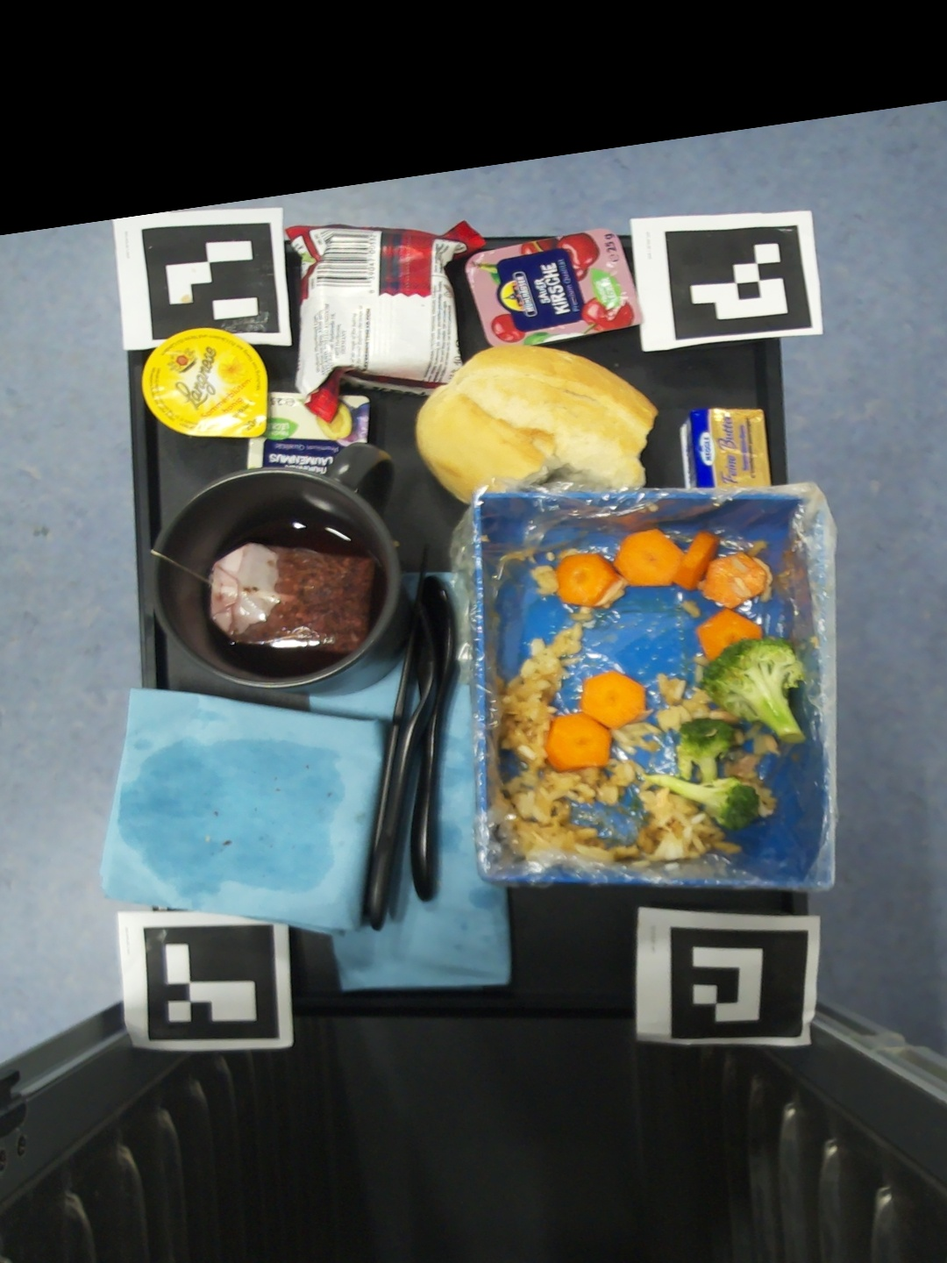bread_roll: (416, 344, 659, 504)
broccoli: (643, 718, 759, 830), (701, 638, 807, 744)
butter: (678, 408, 771, 487)
carrots: (556, 529, 765, 661), (546, 671, 645, 773)
cherry_jam: (466, 228, 644, 346)
cookie: (285, 220, 487, 423)
honey: (142, 327, 267, 438)
plum_jam: (247, 392, 370, 472)
rice: (489, 622, 742, 870), (608, 673, 738, 754), (724, 722, 780, 818), (748, 541, 773, 602), (594, 574, 630, 609), (531, 566, 559, 595), (731, 577, 753, 599), (694, 656, 711, 682), (570, 606, 594, 621), (682, 601, 701, 619), (697, 580, 714, 600), (732, 558, 750, 574), (559, 550, 583, 561), (648, 504, 659, 512), (546, 552, 555, 561), (480, 535, 491, 542)
tea_cup: (152, 442, 414, 697)
